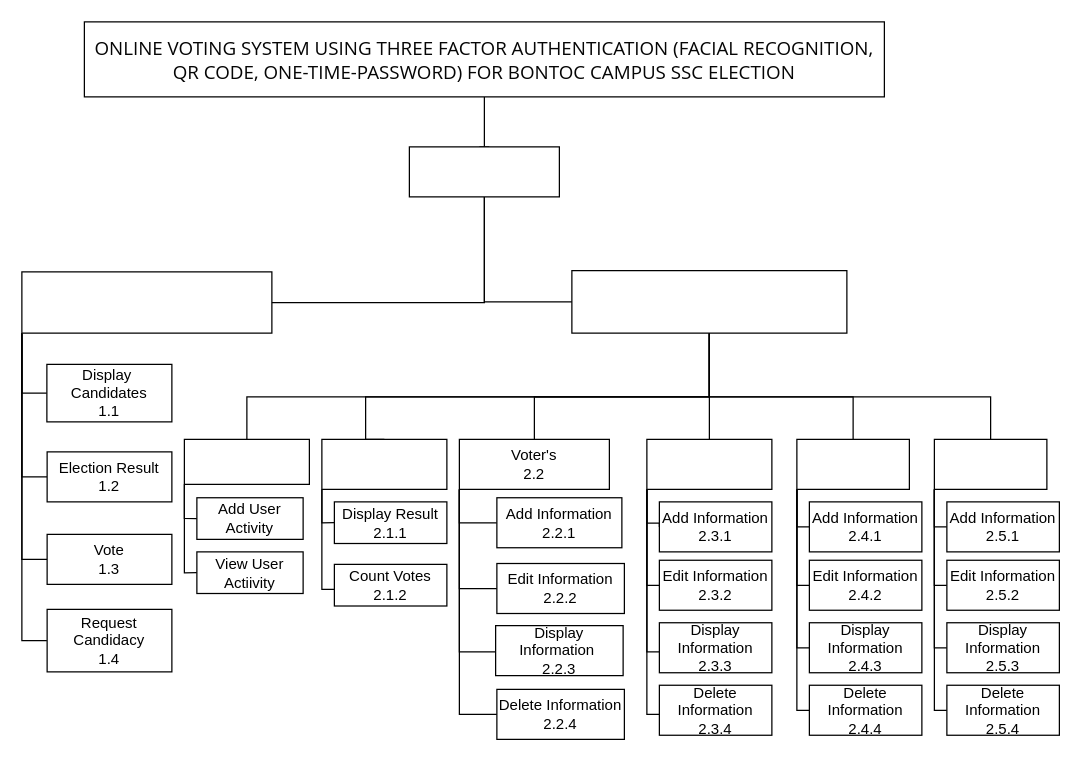
The diagram is 1081 pixels wide and 761 high, and some of its shapes have lost their labels. The shapes that lost their labels are listed below. From the top down, each one's centre as x and y in pixels, then its label:
[483,171]: Login
[146,302]: Voter's Page 1.0
[709,301]: Admin Page 2.0
[246,461]: User Log
[384,463]: Vote's Tally 2.1
[709,463]: Candidate's 2.3
[852,463]: Position 2.4
[990,463]: Election 2.5
